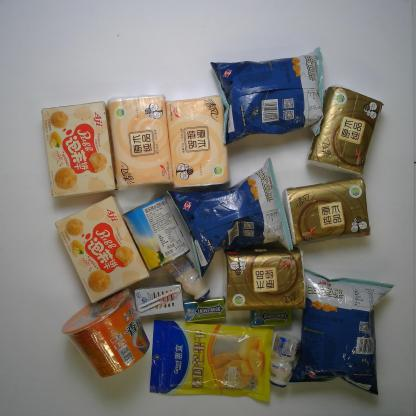Canned Food: (122, 196, 189, 274)
Dessert: (52, 195, 150, 306), (40, 101, 116, 199)
Dried Fruit: (147, 316, 275, 404)
Gum: (183, 294, 228, 323), (248, 306, 293, 329)
Instant Noodles: (60, 286, 149, 379)
Milk: (165, 256, 212, 302), (132, 282, 186, 318), (267, 333, 301, 388)
Puffed Food: (167, 154, 297, 274), (288, 265, 396, 397), (208, 43, 335, 141)
Tissue: (308, 84, 384, 175), (107, 95, 174, 190), (283, 178, 373, 248), (164, 94, 229, 190), (224, 249, 310, 312)
